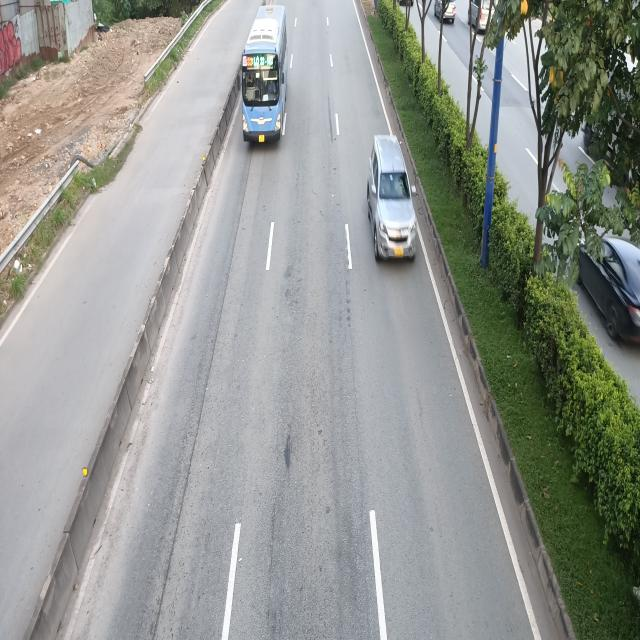car: (366, 136, 415, 264)
coach: (238, 5, 292, 144)
